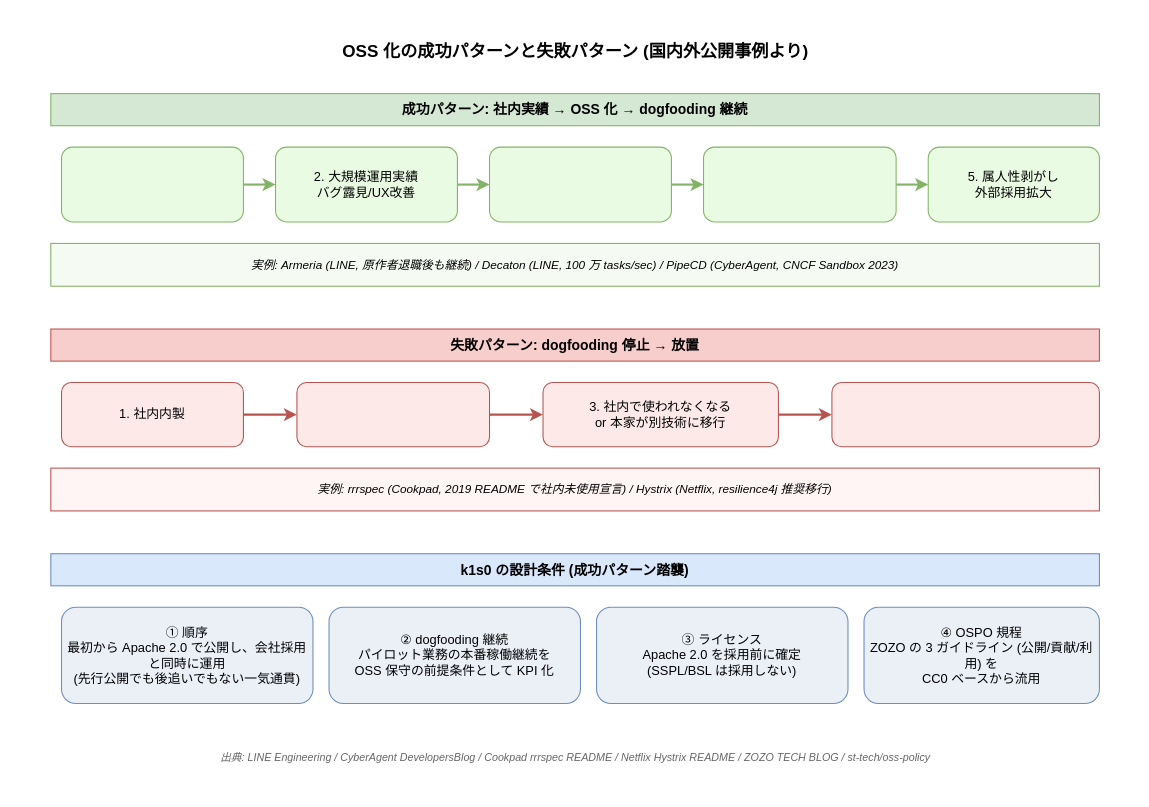
This 1149x807 diagram has some shape labels left out. The centre of each missing label's shape, as x and y in pixels:
1. 社内内製 実ユースで運用: the point at 151,184
2. OSS 化 外部採用拡大: the point at 393,414
3. OSS 化 社内決裁・ライセンス確定: the point at 579,184
4. dogfooding 継続 社内本番稼働を切らさない: the point at 799,184
4. 放置・メンテ停止 エコシステム崩壊: the point at 965,414
